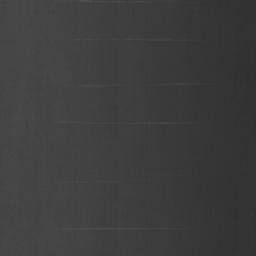Waist folding: (132, 79, 215, 89), (59, 121, 192, 126), (76, 38, 197, 43), (61, 227, 186, 231), (64, 180, 120, 184)
